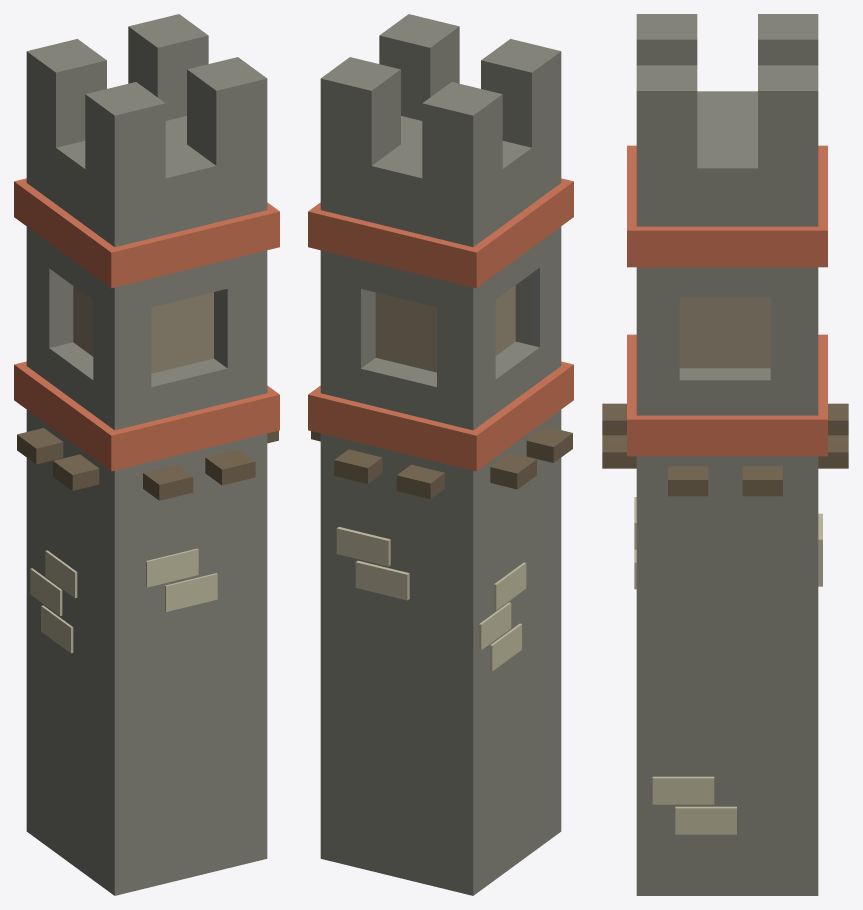
File: Small_Tower.fbx
The picture shows the model from 3 angles, left to right: view 1: azimuth 30°, elevation 25°; view 2: azimuth 150°, elevation 25°; view 3: azimuth 270°, elevation 25°; orthographic projection. The views are drawn at different scales.
Visible parts, largest first — view 1: Small_Tower; view 2: Small_Tower; view 3: Small_Tower.
Part boxes in pixels (x1,y1,x2,y2): Small_Tower: (14,14,279,895); Small_Tower: (308,14,573,895); Small_Tower: (602,14,848,895).
Bounding box in the file's own units: 54.14 × 195 × 54.14.
1 material, 1 textured.
